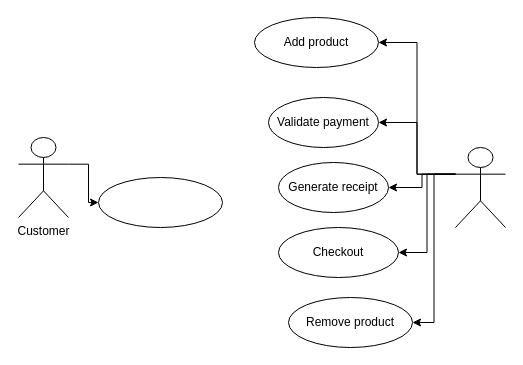
This 523x365 diagram has some shape labels left out. The shapes that lost their labels are listed below. From the top down, each one's box as (x1, y1, x2, y2) in pixels, then its label:
(98, 176, 222, 228): Pay for product
(454, 146, 506, 228): Attendant
